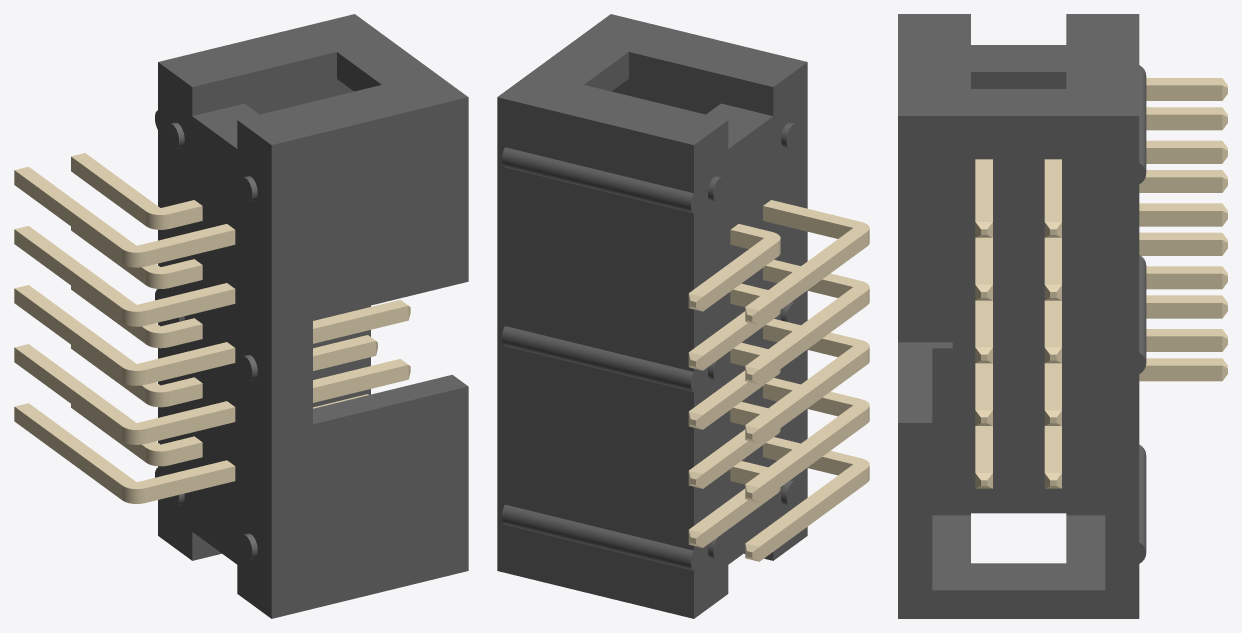
Rendered from IDC-Header_2x05_P2.54mm_Horizontal.glb.
3 renders of one model, left to right at view 1: azimuth 30°, elevation 25°; view 2: azimuth 150°, elevation 25°; view 3: azimuth 270°, elevation 25°, orthographic. The views are drawn at different scales.
Parts seen in each view (by area): view 1: Shape_IndexedFaceSet, Shape_IndexedFaceSet.007, Shape_IndexedFaceSet.001, Shape_IndexedFaceSet.011, Shape_IndexedFaceSet.076, Shape_IndexedFaceSet.059, Shape_IndexedFaceSet.014, Shape_IndexedFaceSet.060, Shape_IndexedFaceSet.077, Shape_IndexedFaceSet.093, Shape_IndexedFaceSet.110, Shape_IndexedFaceSet.042 (+15 smaller); view 2: Shape_IndexedFaceSet.008, Shape_IndexedFaceSet.007, Shape_IndexedFaceSet.001, Shape_IndexedFaceSet.009, Shape_IndexedFaceSet.023, Shape_IndexedFaceSet.025, Shape_IndexedFaceSet.024, Shape_IndexedFaceSet.093, Shape_IndexedFaceSet.076, Shape_IndexedFaceSet.110, Shape_IndexedFaceSet.042, Shape_IndexedFaceSet.059 (+23 smaller); view 3: Shape_IndexedFaceSet.017, Shape_IndexedFaceSet.002, Shape_IndexedFaceSet.001, Shape_IndexedFaceSet.013, Shape_IndexedFaceSet.004, Shape_IndexedFaceSet.005, Shape_IndexedFaceSet.026, Shape_IndexedFaceSet.178, Shape_IndexedFaceSet.093, Shape_IndexedFaceSet.076, Shape_IndexedFaceSet.161, Shape_IndexedFaceSet.059 (+18 smaller).
Boxes of the visible parts, bbox=[...] form: Shape_IndexedFaceSet: bbox=[271, 97, 468, 618]; Shape_IndexedFaceSet.007: bbox=[155, 62, 271, 618]; Shape_IndexedFaceSet.001: bbox=[158, 14, 467, 144]; Shape_IndexedFaceSet.011: bbox=[192, 52, 336, 115]; Shape_IndexedFaceSet.076: bbox=[15, 285, 408, 370]; Shape_IndexedFaceSet.059: bbox=[15, 344, 408, 429]; Shape_IndexedFaceSet.014: bbox=[244, 79, 370, 407]; Shape_IndexedFaceSet.060: bbox=[145, 365, 408, 443]; Shape_IndexedFaceSet.077: bbox=[145, 306, 408, 384]; Shape_IndexedFaceSet.093: bbox=[14, 166, 234, 252]; Shape_IndexedFaceSet.110: bbox=[15, 226, 234, 311]; Shape_IndexedFaceSet.042: bbox=[15, 403, 234, 488]; Shape_IndexedFaceSet.008: bbox=[497, 97, 693, 618]; Shape_IndexedFaceSet.007: bbox=[691, 62, 807, 618]; Shape_IndexedFaceSet.001: bbox=[497, 14, 807, 144]; Shape_IndexedFaceSet.009: bbox=[629, 52, 773, 115]; Shape_IndexedFaceSet.023: bbox=[502, 504, 693, 570]; Shape_IndexedFaceSet.025: bbox=[502, 147, 693, 213]; Shape_IndexedFaceSet.024: bbox=[502, 326, 693, 391]; Shape_IndexedFaceSet.093: bbox=[746, 200, 869, 310]; Shape_IndexedFaceSet.076: bbox=[745, 319, 869, 428]; Shape_IndexedFaceSet.110: bbox=[745, 259, 869, 369]; Shape_IndexedFaceSet.042: bbox=[745, 437, 869, 546]; Shape_IndexedFaceSet.059: bbox=[745, 378, 869, 487]; Shape_IndexedFaceSet.017: bbox=[932, 72, 1105, 515]; Shape_IndexedFaceSet.002: bbox=[898, 116, 1139, 618]; Shape_IndexedFaceSet.001: bbox=[898, 14, 1139, 115]; Shape_IndexedFaceSet.013: bbox=[932, 515, 1105, 590]; Shape_IndexedFaceSet.004: bbox=[898, 237, 952, 342]; Shape_IndexedFaceSet.005: bbox=[898, 342, 952, 422]; Shape_IndexedFaceSet.026: bbox=[971, 45, 1066, 71]; Shape_IndexedFaceSet.178: bbox=[1044, 107, 1222, 221]; Shape_IndexedFaceSet.093: bbox=[975, 78, 1222, 221]; Shape_IndexedFaceSet.076: bbox=[975, 203, 1222, 347]; Shape_IndexedFaceSet.161: bbox=[1044, 232, 1222, 347]; Shape_IndexedFaceSet.059: bbox=[975, 266, 1222, 410].
Bounding box in the file's own units: 5.34 × 8.02 × 4.76.
